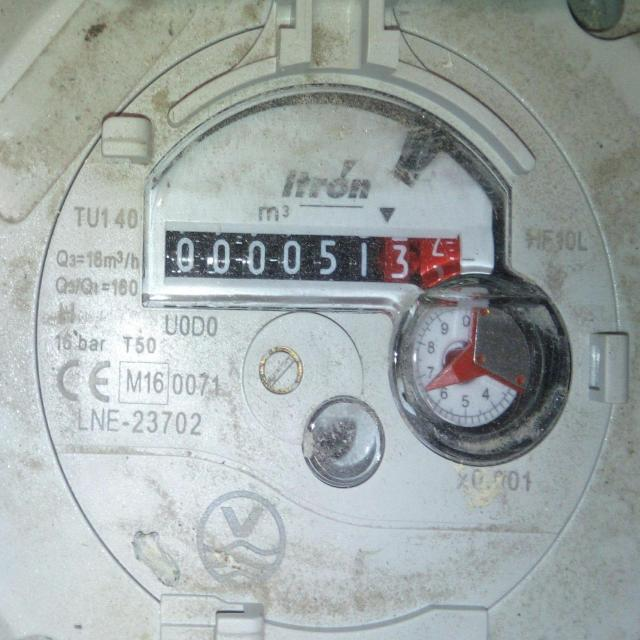gaz_meter: (37, 24, 623, 628)
indication: (166, 224, 461, 290)
